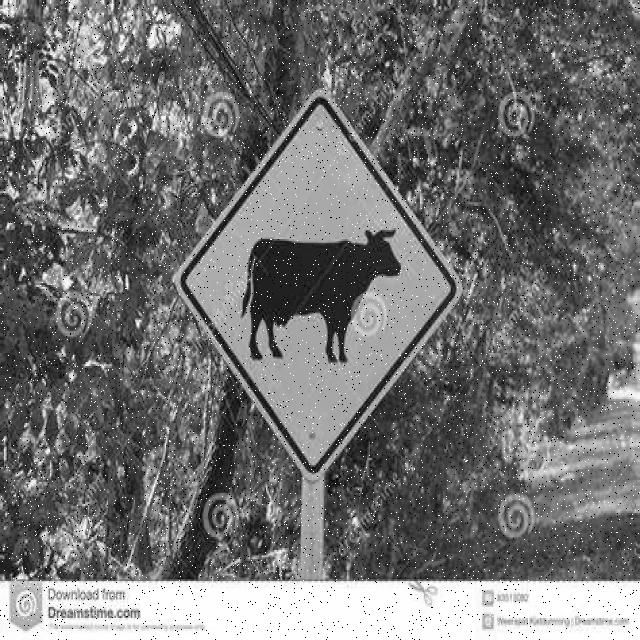cattle: (160, 87, 474, 501)
